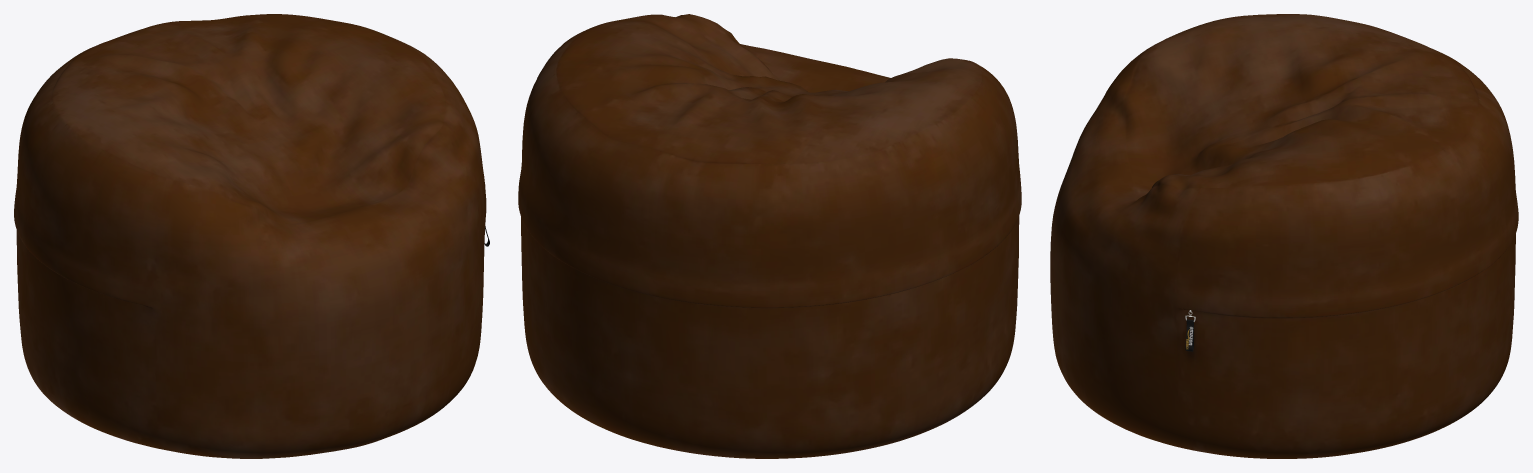
File: abo-B07TP4S5SZ.glb
The picture shows the model from 3 angles, left to right: view 1: azimuth 30°, elevation 25°; view 2: azimuth 150°, elevation 25°; view 3: azimuth 270°, elevation 25°; orthographic projection. The views are drawn at different scales.
Size of the model in its own units: 0.918 by 0.616 by 0.9179.
Materials: 1 (1 with a texture image).
